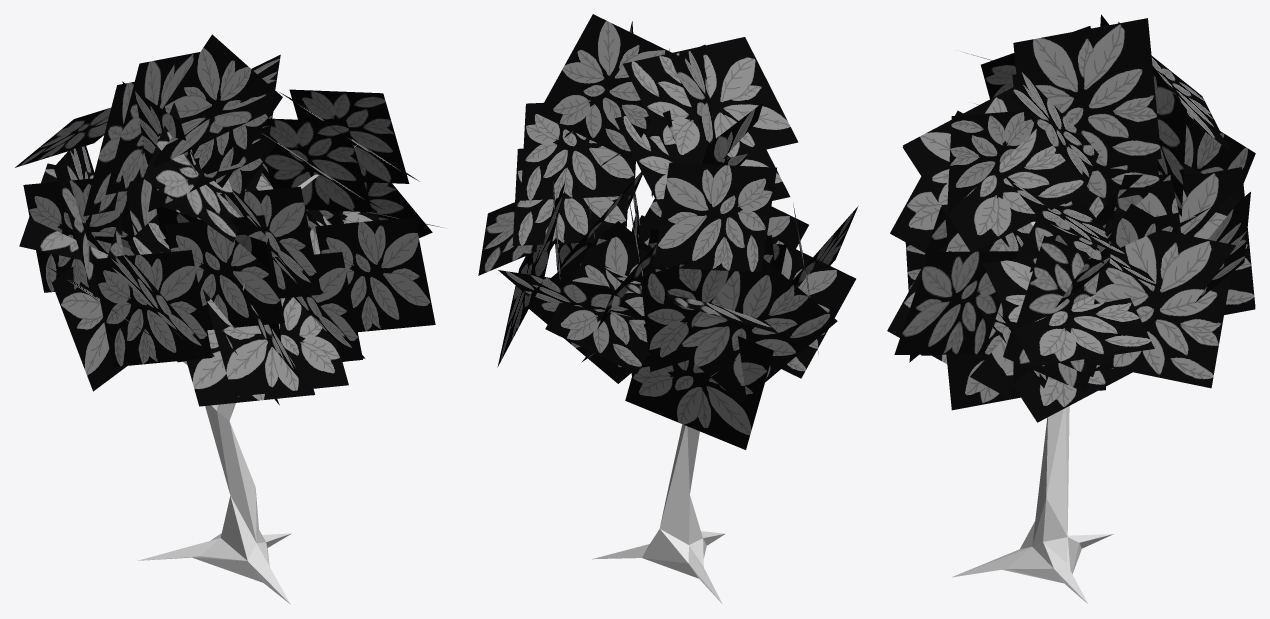
The model's file is Tree2.fbx.
3 renders of one model, left to right at view 1: azimuth 30°, elevation 25°; view 2: azimuth 150°, elevation 25°; view 3: azimuth 270°, elevation 25°, orthographic. The views are drawn at different scales.
Parts seen in each view (by area): view 1: Tree.002; view 2: Tree.002; view 3: Tree.002.
Boxes of the visible parts, bbox=[...] form: Tree.002: bbox=[15, 34, 442, 604]; Tree.002: bbox=[478, 14, 858, 604]; Tree.002: bbox=[887, 14, 1255, 604].
Size of the model in its own units: 2.28 by 2.98 by 1.82.
